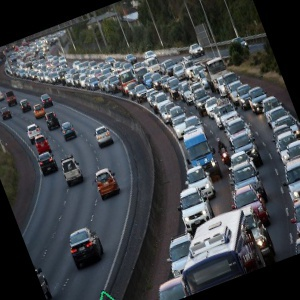triangle: (93, 289, 116, 300)
